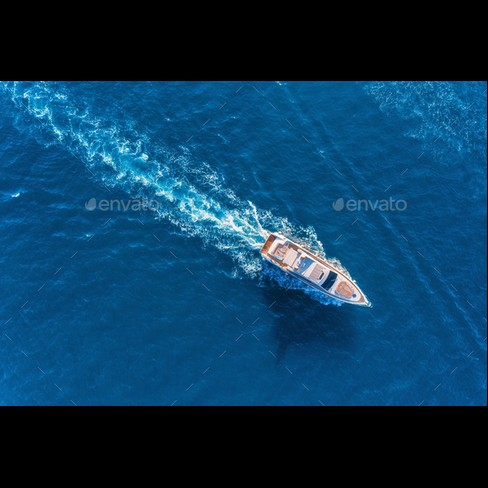boat: (253, 225, 376, 314)
